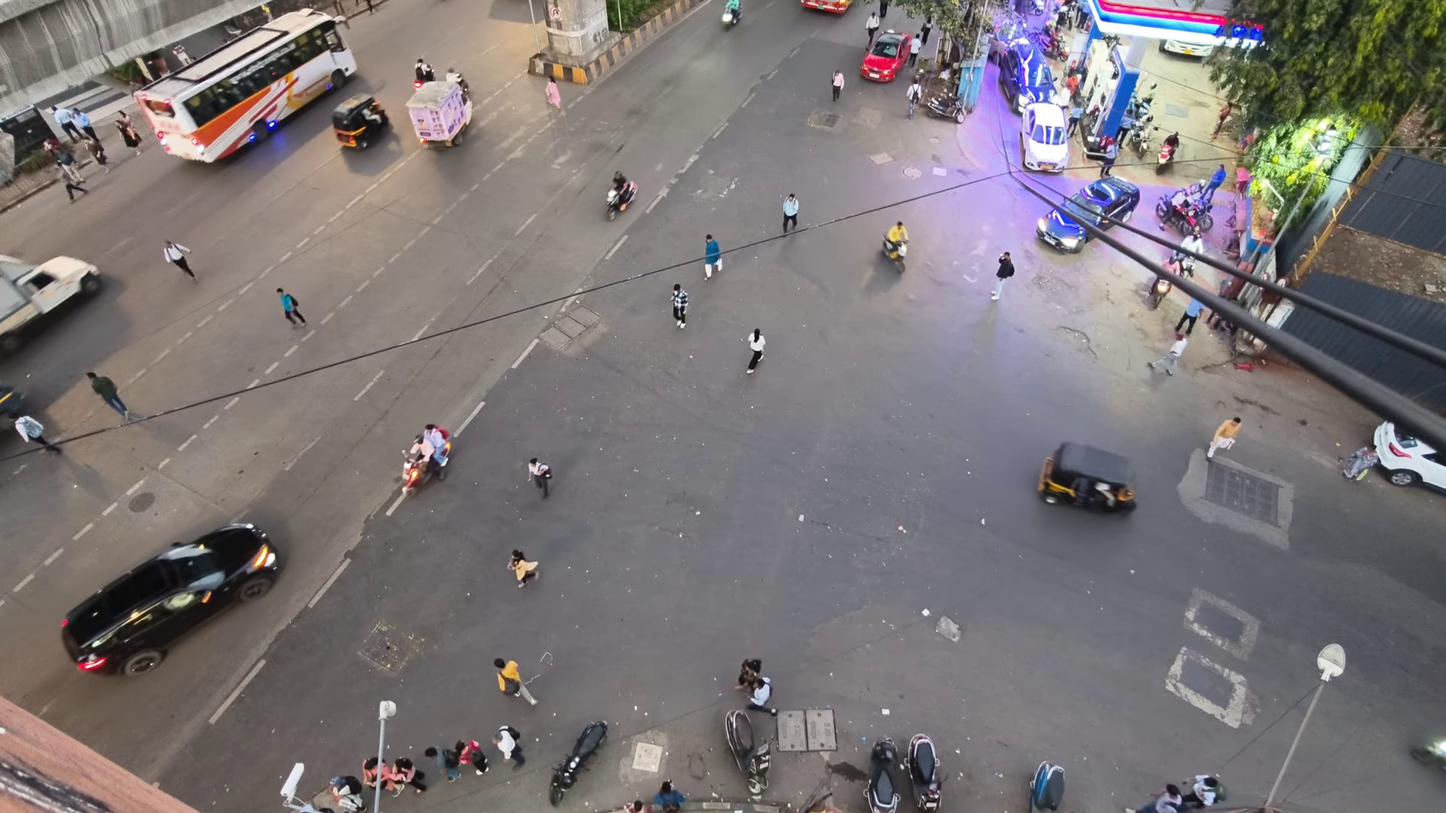driving: (135, 9, 356, 161), (62, 523, 280, 675), (0, 255, 100, 352), (1037, 176, 1138, 252), (1039, 443, 1136, 512), (549, 720, 607, 806), (1373, 422, 1445, 490), (406, 81, 473, 146), (999, 40, 1056, 112), (725, 710, 770, 799), (1021, 102, 1068, 172), (333, 93, 389, 148), (1155, 182, 1213, 234), (860, 29, 911, 81), (925, 92, 967, 123), (0, 381, 26, 418), (801, 0, 851, 14)
walking: (86, 372, 131, 420), (493, 658, 536, 705), (1147, 331, 1187, 374), (14, 416, 61, 452), (385, 757, 426, 795), (1207, 416, 1241, 458), (1182, 775, 1225, 807), (493, 726, 524, 769), (329, 775, 365, 812), (1136, 784, 1182, 812), (163, 241, 196, 280), (424, 746, 460, 781), (362, 757, 398, 792), (114, 111, 142, 155), (455, 740, 489, 775), (276, 288, 306, 327), (508, 550, 538, 588), (991, 251, 1014, 300), (50, 105, 81, 141), (1201, 163, 1226, 207), (749, 676, 777, 715), (53, 147, 82, 184), (1174, 297, 1202, 334), (743, 329, 765, 373), (654, 781, 685, 812), (528, 458, 551, 498), (71, 108, 98, 140), (84, 137, 108, 172), (1210, 102, 1232, 140), (735, 659, 761, 690), (705, 234, 720, 280), (672, 284, 688, 327), (1100, 139, 1118, 177), (63, 175, 88, 202), (782, 193, 798, 232), (1066, 100, 1083, 136), (906, 78, 921, 118), (545, 77, 561, 110), (414, 57, 435, 82), (865, 11, 880, 46), (908, 33, 923, 67), (831, 70, 844, 101), (919, 17, 931, 44), (878, 0, 888, 18)
